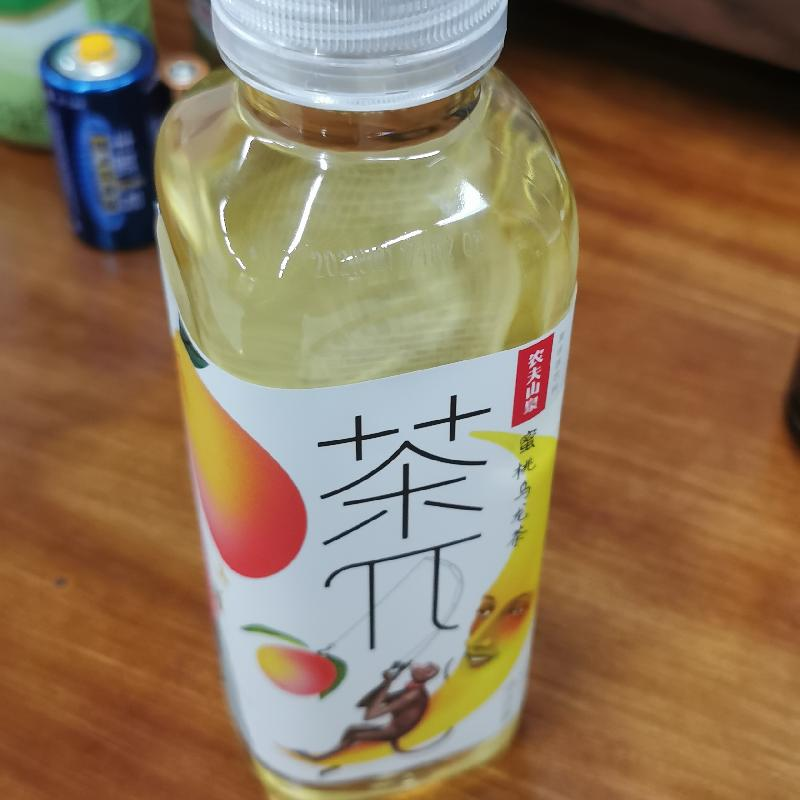bottles: (142, 0, 582, 799)
